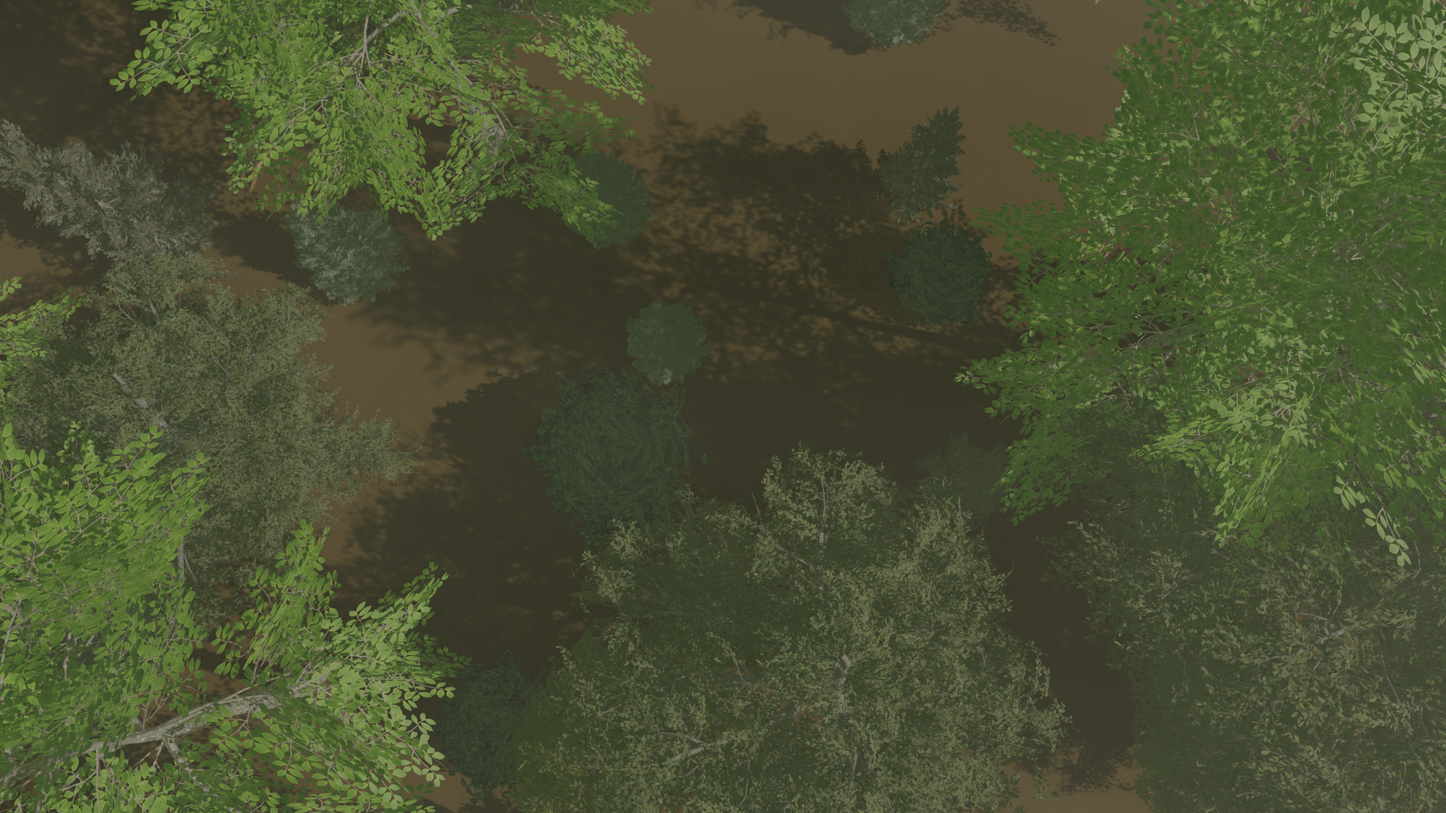pangolin: (1229, 229, 1295, 303), (232, 135, 281, 206), (569, 590, 642, 602)
